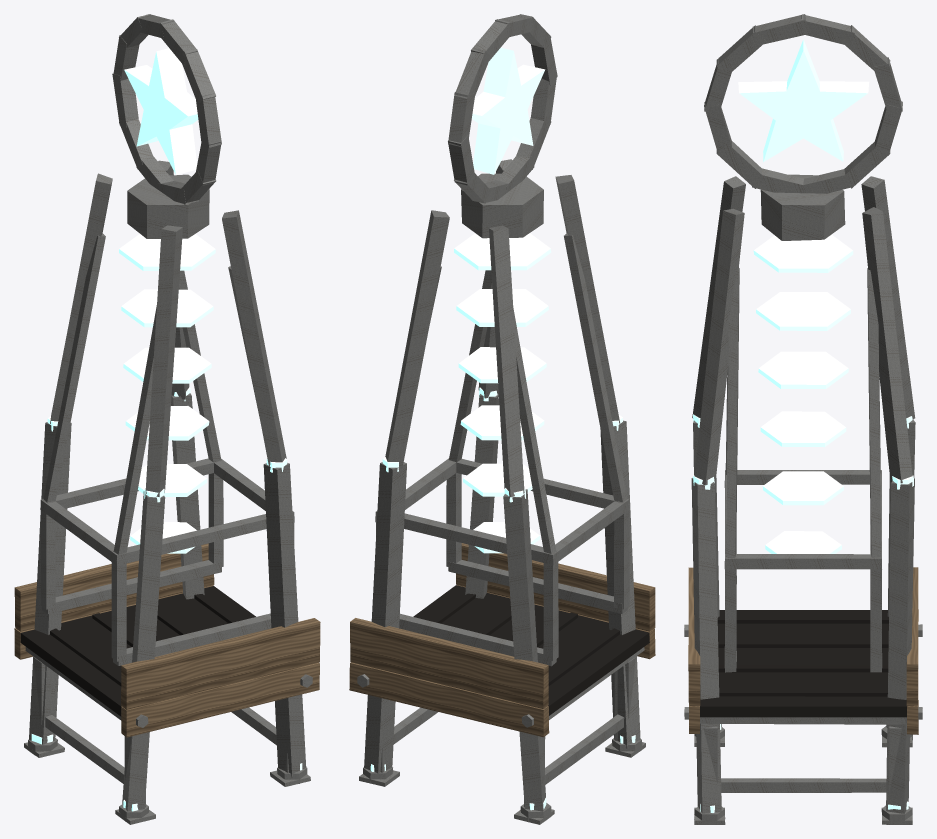
File: starbeam_collector.glb
3 views of the same model, side by side, from view 1: azimuth 30°, elevation 25°; view 2: azimuth 150°, elevation 25°; view 3: azimuth 270°, elevation 25° (orthographic). The views are drawn at different scales.
Parts seen in each view (by area): view 1: StarbeamCollector, Belt, Star; view 2: StarbeamCollector, Belt, Star; view 3: StarbeamCollector, Belt, Star, Roller2.
Boxes of the visible parts, x1,y1,x2,y2 form: StarbeamCollector: (14, 14, 320, 824); Belt: (20, 586, 255, 716); Star: (124, 48, 198, 175); StarbeamCollector: (349, 14, 655, 824); Belt: (413, 585, 649, 715); Star: (472, 47, 545, 174); StarbeamCollector: (684, 14, 922, 824); Belt: (700, 610, 906, 717); Star: (738, 39, 869, 161); Roller2: (700, 717, 906, 724).
Size of the model in its own units: 1.68 by 6.16 by 1.74.
Materials: 4 (2 with a texture image).
